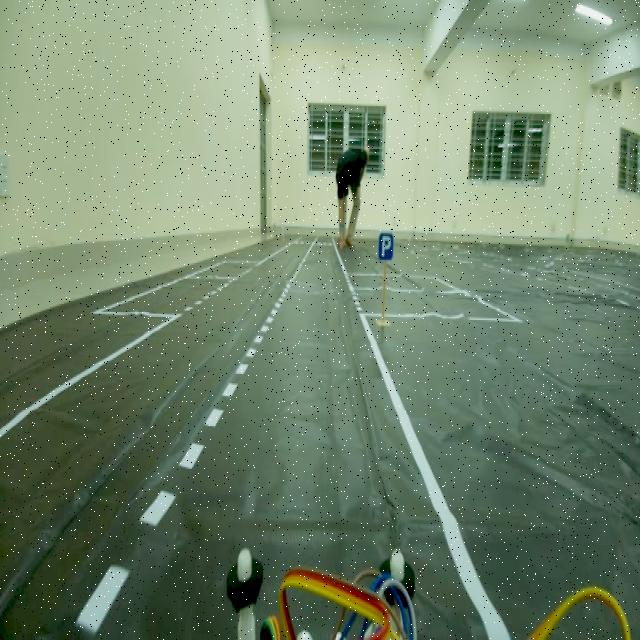parking: (375, 227, 395, 267)
